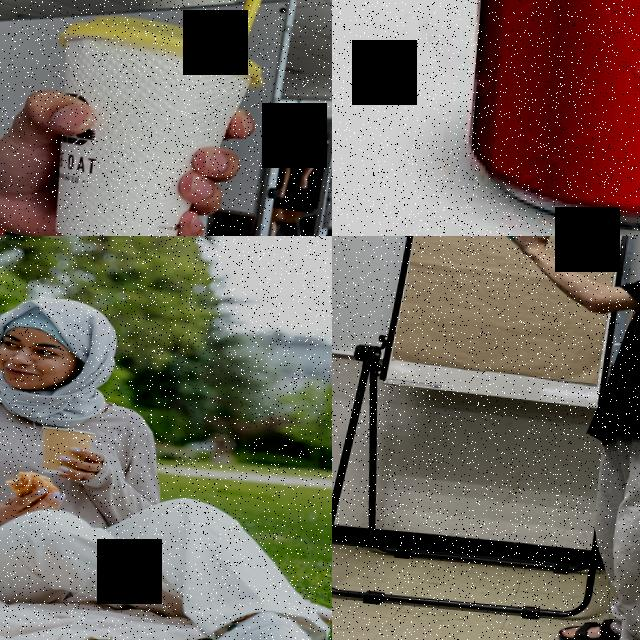can: (455, 0, 640, 236)
cup: (39, 9, 267, 236), (34, 424, 96, 480)
